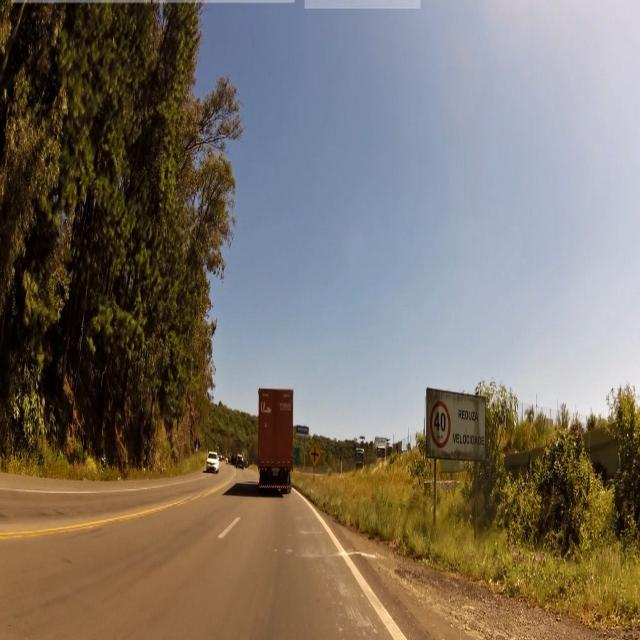R-19: (430, 399, 450, 446)
